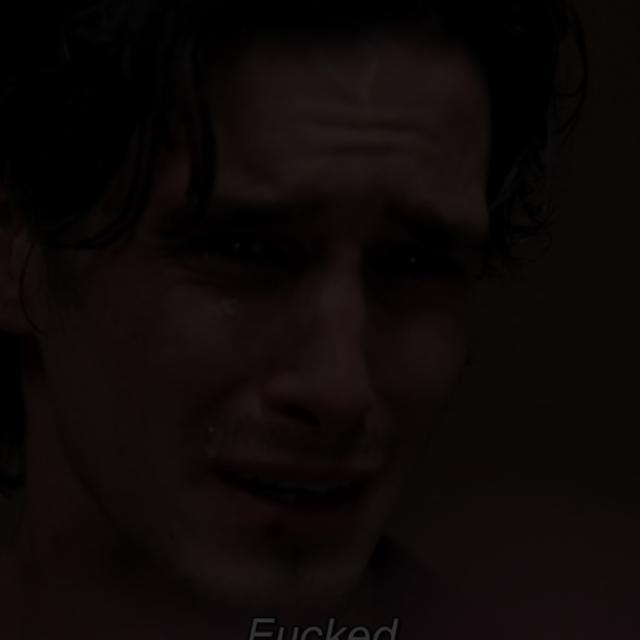Sad: (87, 82, 605, 626)
